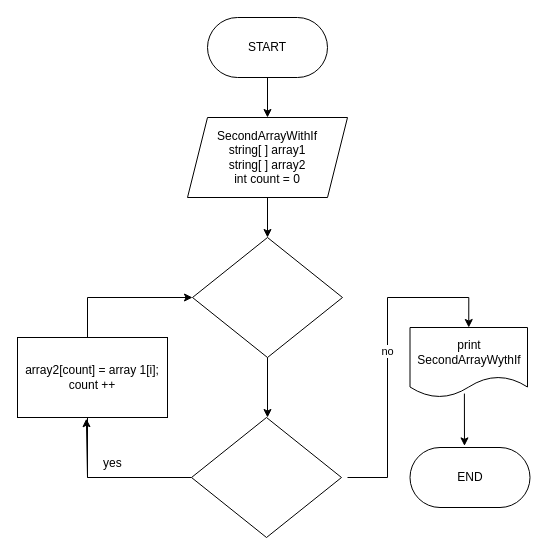
This 548x555 diagram has some shape labels left out. The shapes that lost their labels are listed below. From the top down, each one's centre as x and y in pixels, then its label:
At [267,297]: "fot (int i = 0; i < array1.lenght; i++)".
At [266,477]: "if (array1 [i].lenght <= 3)".
